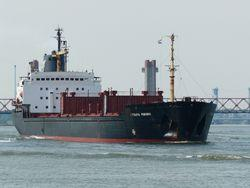Cargoship: (15, 26, 224, 140)
